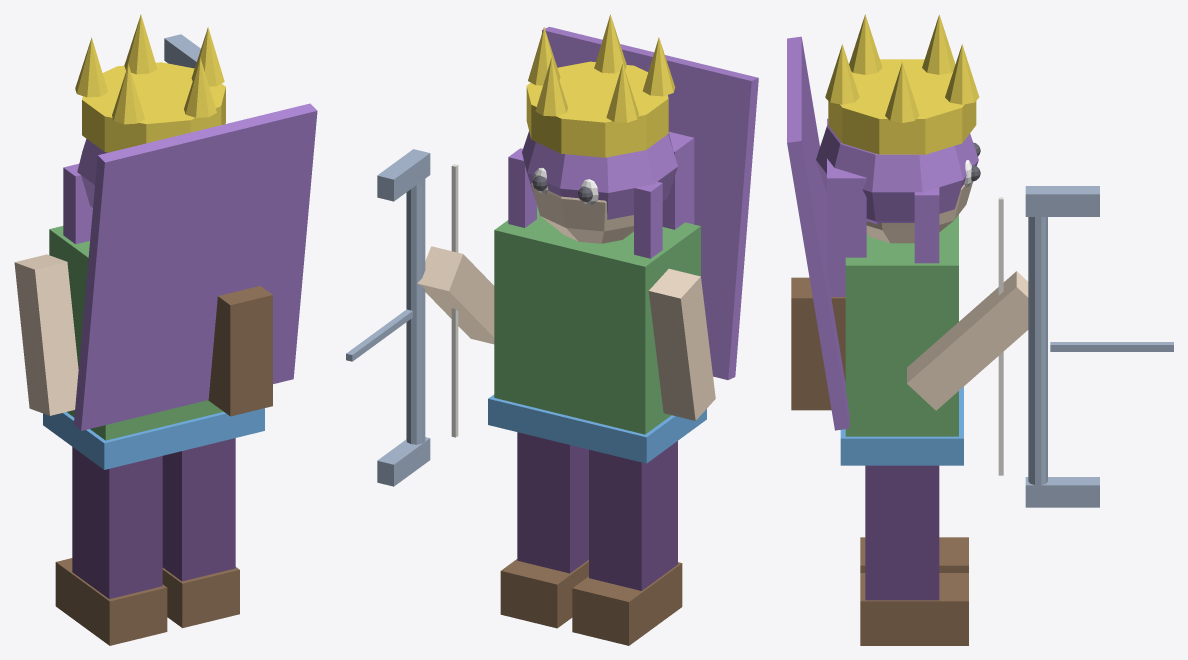
The model's file is archer_queen.glb.
3 renders of one model, left to right at view 1: azimuth 30°, elevation 25°; view 2: azimuth 150°, elevation 25°; view 3: azimuth 270°, elevation 25°, orthographic. The views are drawn at different scales.
Parts seen in each view (by area): view 1: archer_queen; view 2: archer_queen; view 3: archer_queen.
Boxes of the visible parts, x1=… form: archer_queen: x1=14, y1=14, x2=317, y2=645; archer_queen: x1=346, y1=14, x2=758, y2=645; archer_queen: x1=787, y1=14, x2=1173, y2=645.
Size of the model in its own units: 1.12 by 2.59 by 1.57.
